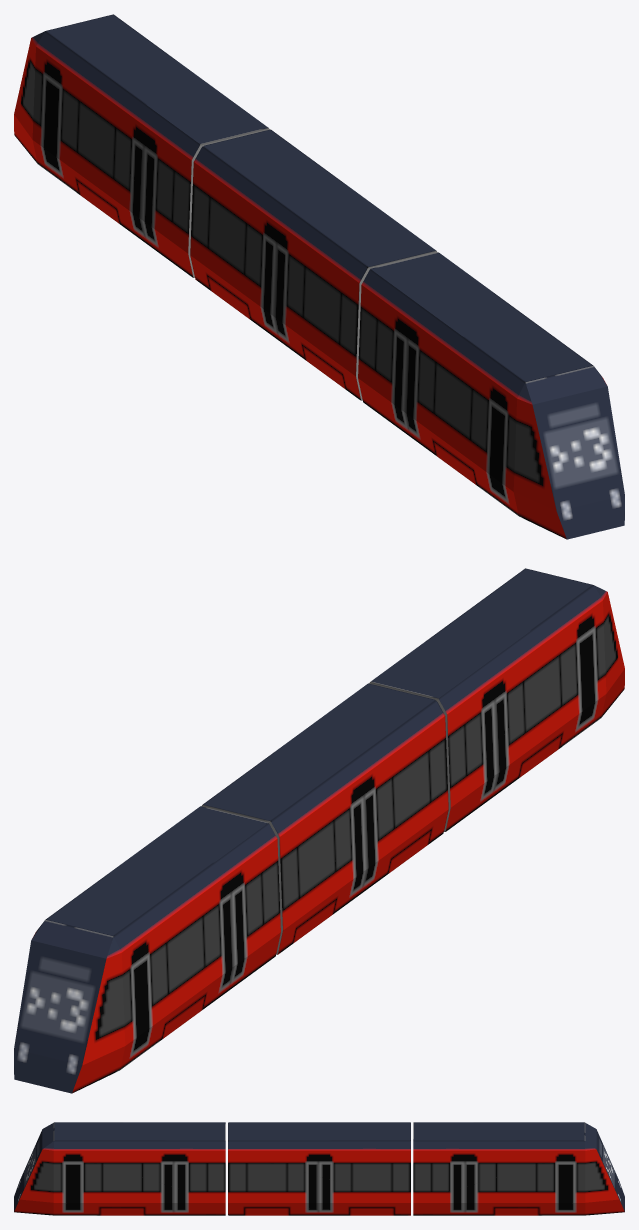
File: manse.obj
The picture shows the model from 3 angles, top to bottom: view 1: azimuth 30°, elevation 25°; view 2: azimuth 150°, elevation 25°; view 3: azimuth 270°, elevation 25°; orthographic projection. The views are drawn at different scales.
Parts seen in each view (by area): view 1: cuboid; view 2: cuboid; view 3: cuboid.
Part boxes in pixels (left/top/right/bottom): cuboid: left=14, top=14, right=624, bottom=539; cuboid: left=14, top=568, right=624, bottom=1093; cuboid: left=14, top=1122, right=624, bottom=1215.
Bounding box in the file's own units: 1.66 × 2.25 × 17.09.
Materials: 1 (1 with a texture image).
